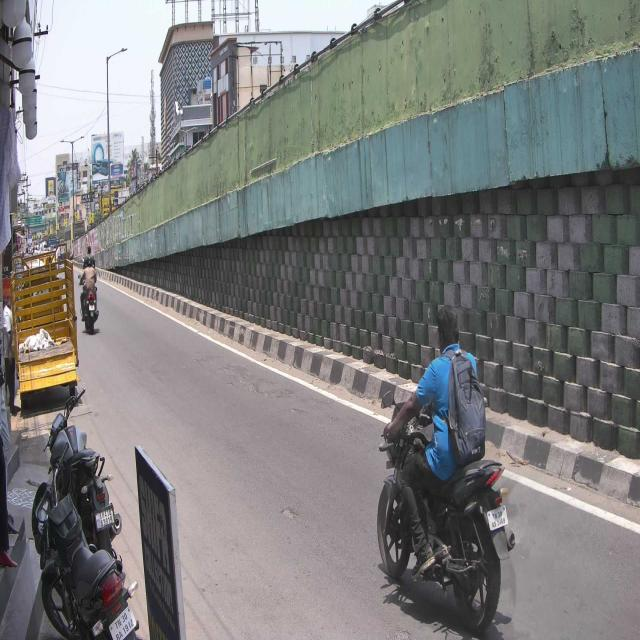single_rider: (375, 306, 517, 629)
